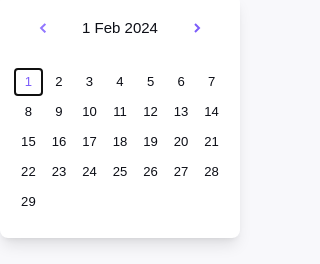
Calendar.tsx › should set date to previous month after clicking on the previous month button
The width and height of the screenshot is (320, 264).
Click the button with test id "prevMonthBtn". click: {"x": 43, "y": 28}
box: top-left (33, 18), bottom-right (52, 37)
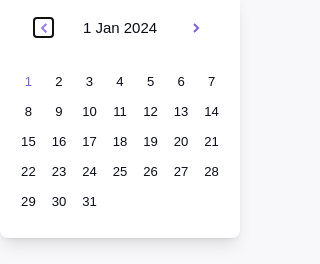
Expected: the button with test id "fullDateBtn" reads "1 Jan 2024", top-left (83, 16), bottom-right (157, 39)
